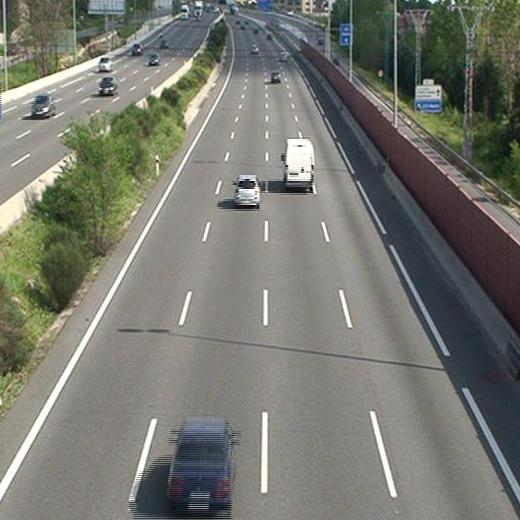car: (165, 419, 239, 510), (232, 174, 260, 208), (269, 70, 283, 83)
van: (279, 139, 315, 190)
